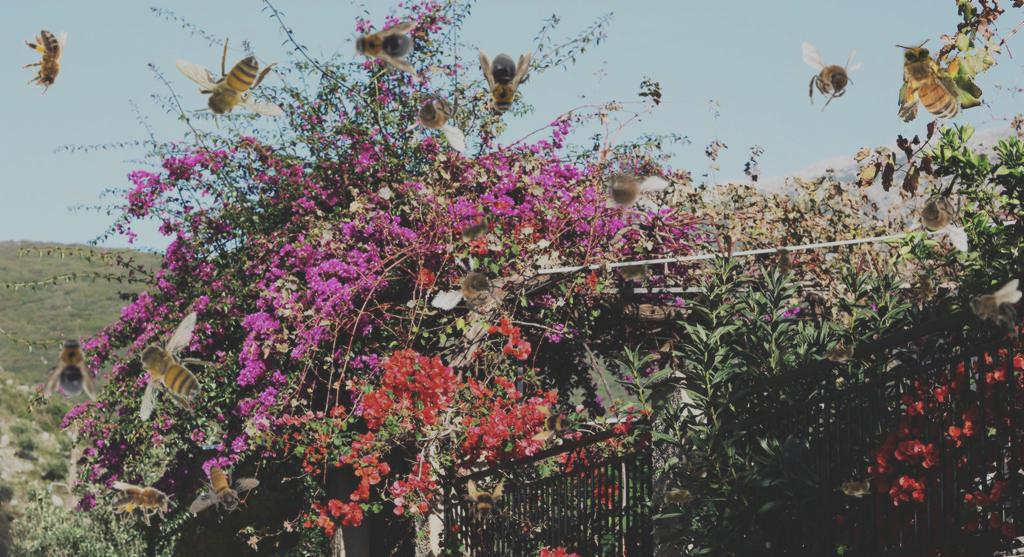Bee: (173, 36, 284, 130), (126, 311, 220, 422), (581, 148, 672, 236), (430, 247, 517, 329), (895, 39, 963, 132), (907, 182, 968, 252), (802, 42, 863, 112), (404, 82, 465, 152), (189, 464, 260, 514), (350, 21, 418, 73), (44, 333, 96, 401), (479, 49, 531, 117), (969, 279, 1022, 341), (22, 30, 67, 96), (111, 481, 177, 526), (461, 479, 505, 523), (532, 403, 576, 447), (452, 211, 498, 249), (914, 267, 936, 307), (613, 260, 653, 282), (773, 242, 795, 282), (819, 342, 859, 364), (659, 487, 699, 509), (835, 476, 875, 498)
